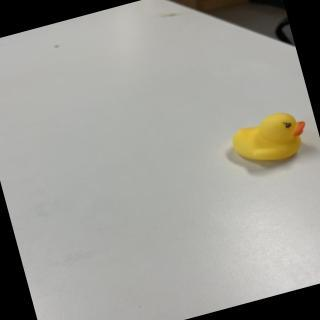duck_regular: (227, 106, 315, 173)
